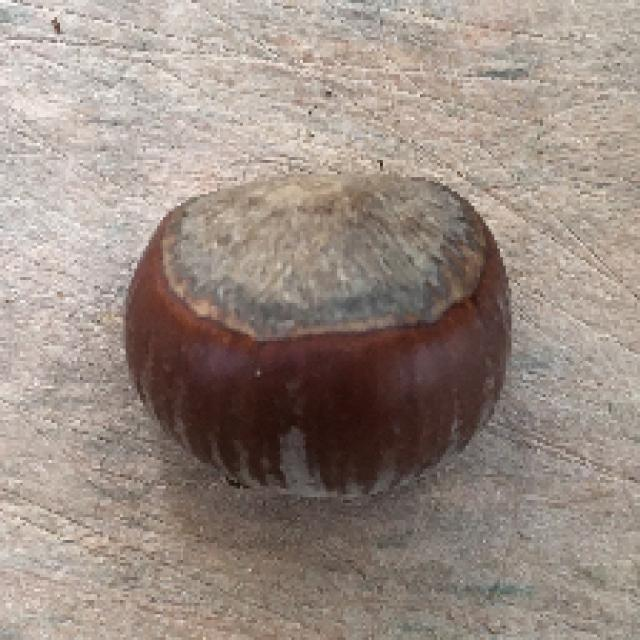damagedHazelnut: (130, 170, 516, 502)
